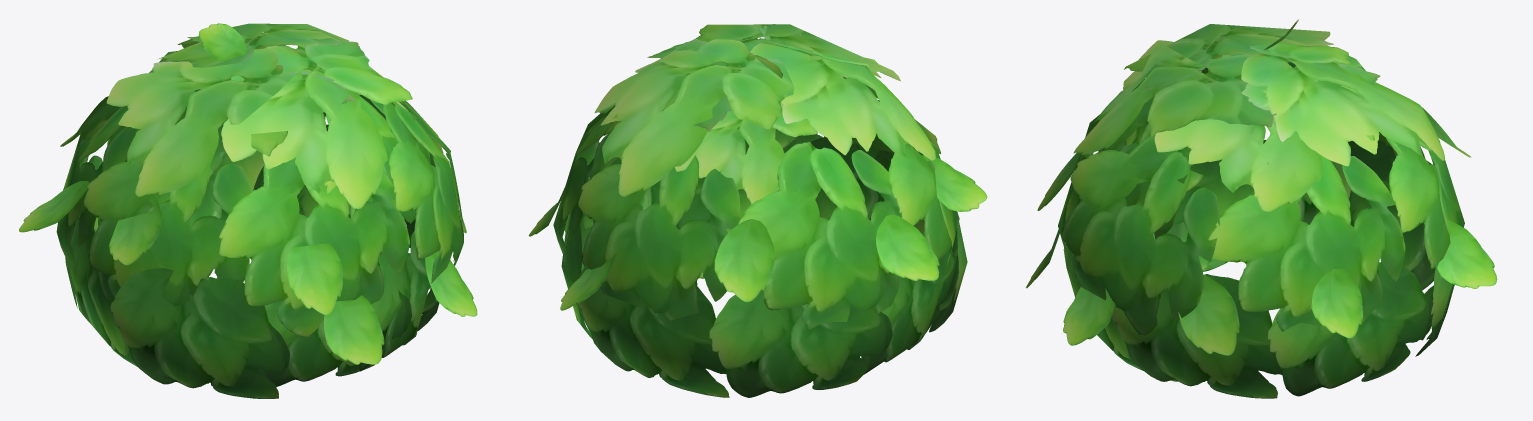
File: Furniture_Plants_33_1.fbx
The picture shows the model from 3 angles, left to right: view 1: azimuth 30°, elevation 25°; view 2: azimuth 150°, elevation 25°; view 3: azimuth 270°, elevation 25°; orthographic projection.
Visible parts, largest first — view 1: Furniture_Plants_33_1; view 2: Furniture_Plants_33_1; view 3: Furniture_Plants_33_1.
Part boxes in pixels (<box>): Furniture_Plants_33_1: <box>19,23,477,398</box>; Furniture_Plants_33_1: <box>528,24,987,397</box>; Furniture_Plants_33_1: <box>1026,19,1497,398</box>.
Bounding box in the file's own units: 165 × 121 × 168.
